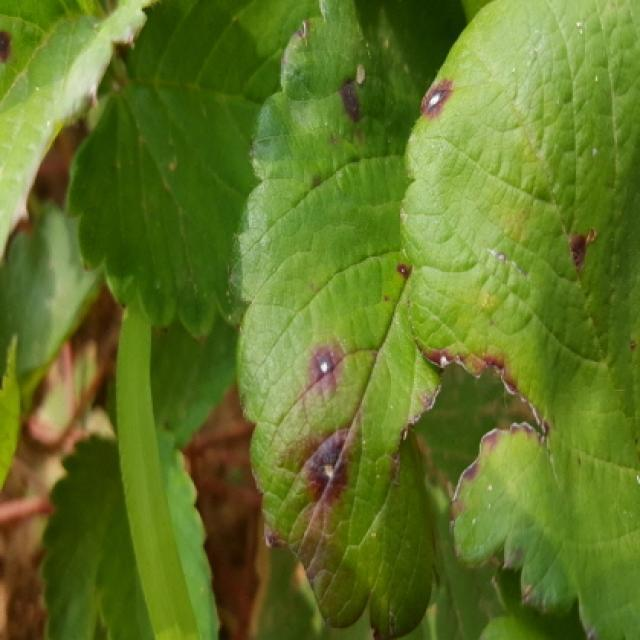Leaf Spot: (399, 0, 638, 638), (227, 0, 465, 638)
